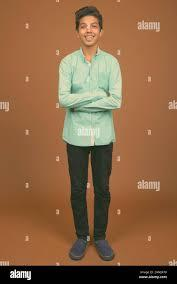Human: (42, 5, 145, 268)
